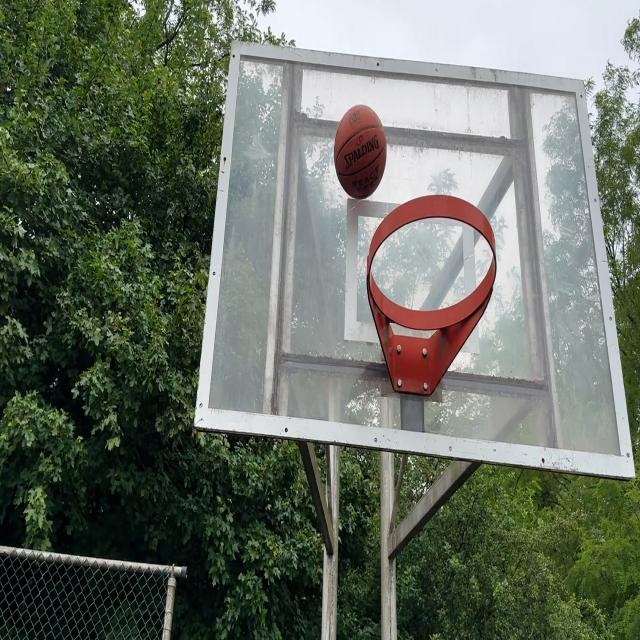rebound_hit: (335, 105, 387, 202)
